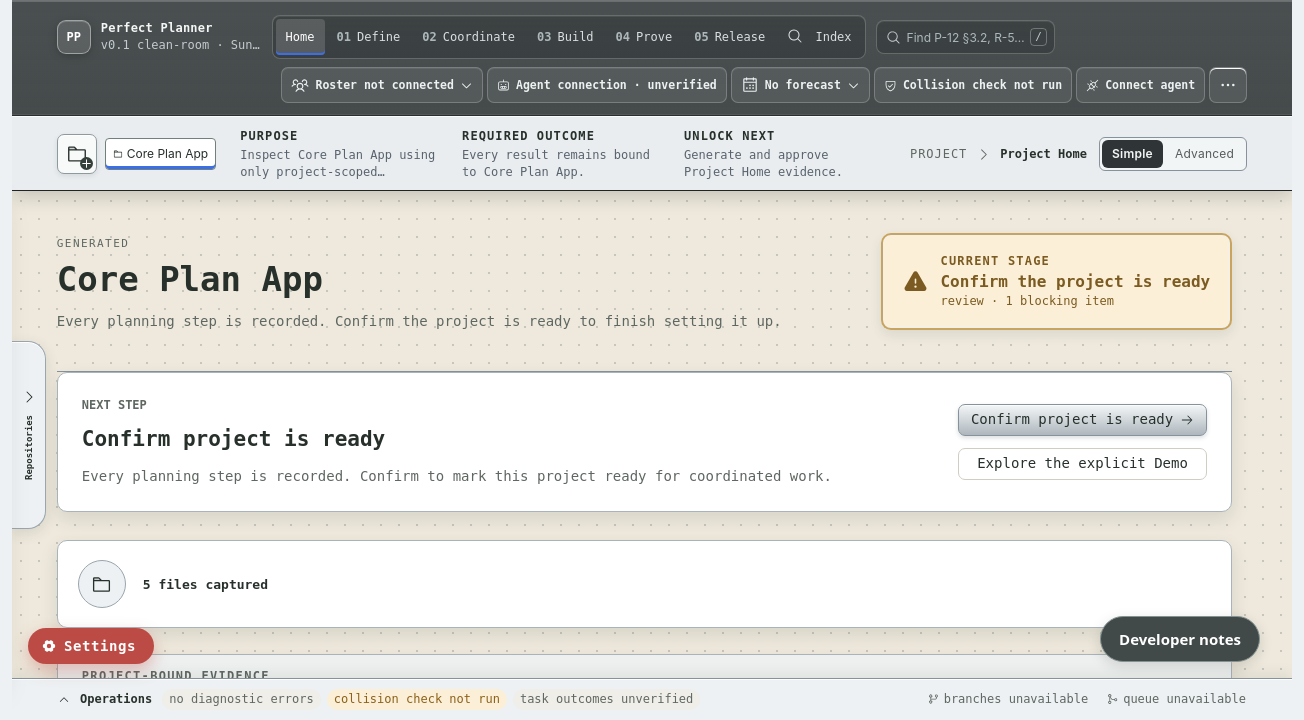
Scenario: a plan approved in Deep planning is the approved plan on Home, and readiness can be confirmed
Step 1. Click the button "Confirm project is ready" → (1083, 420), box [958,404,1207,436]
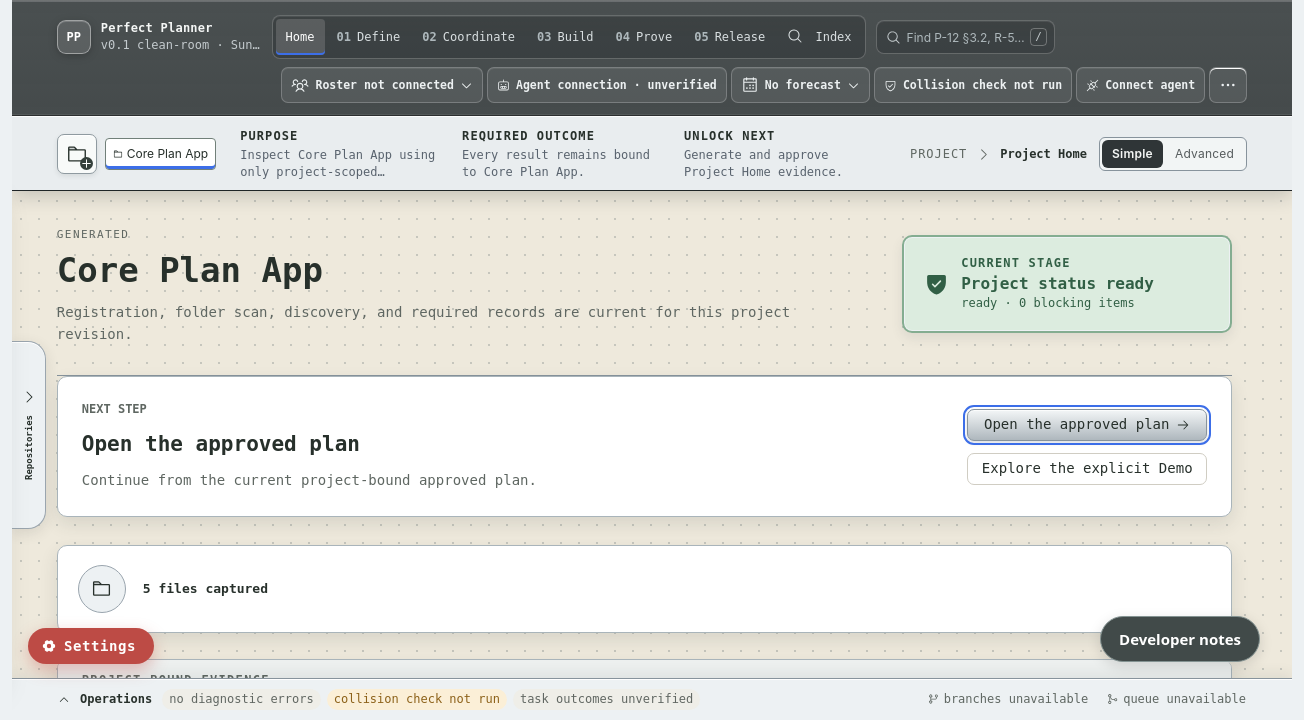
Now the element named "Current project stage" shows "Project status ready", box [961,274,1154,293]
